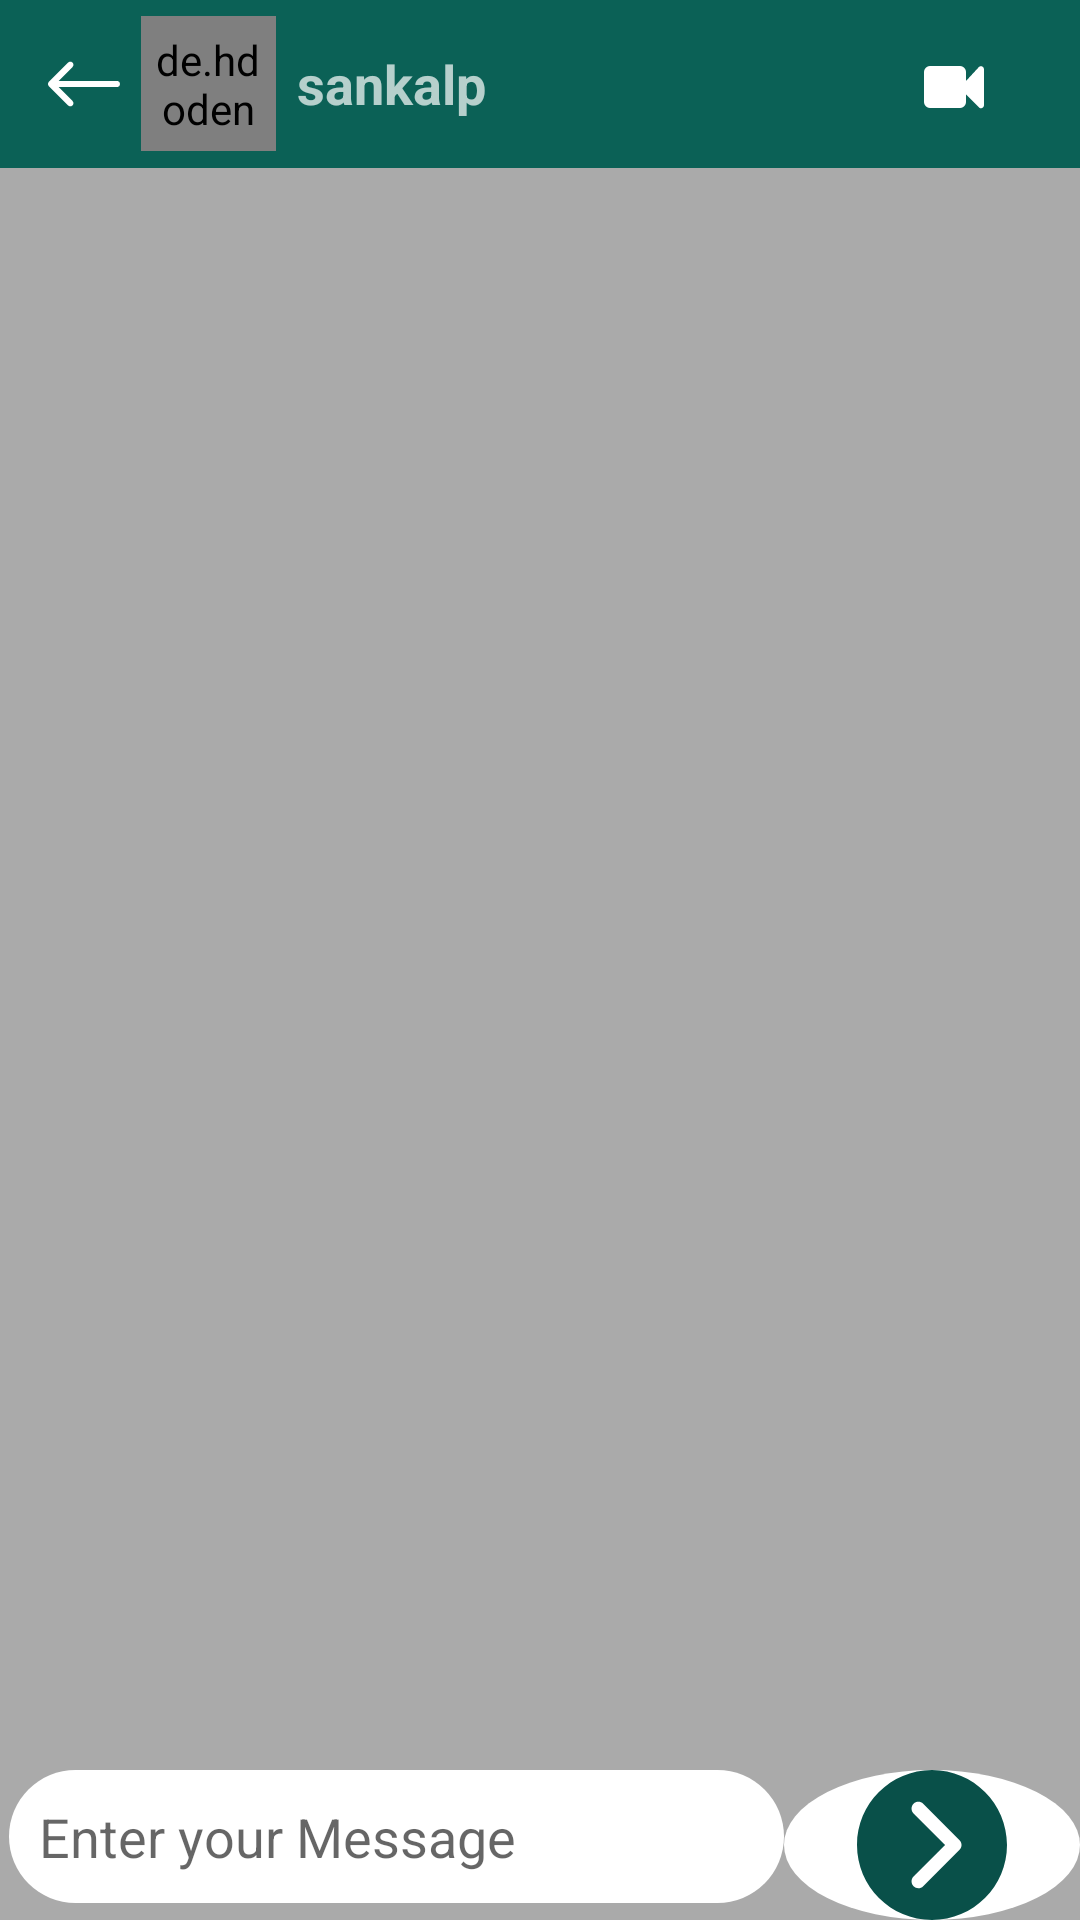

Locate icon controls on the screen. Image size 1080×1920, boxes as (x1, y1, x2, y2).
leftarrow: (48, 61, 120, 107)
videocall: (924, 66, 984, 109)
